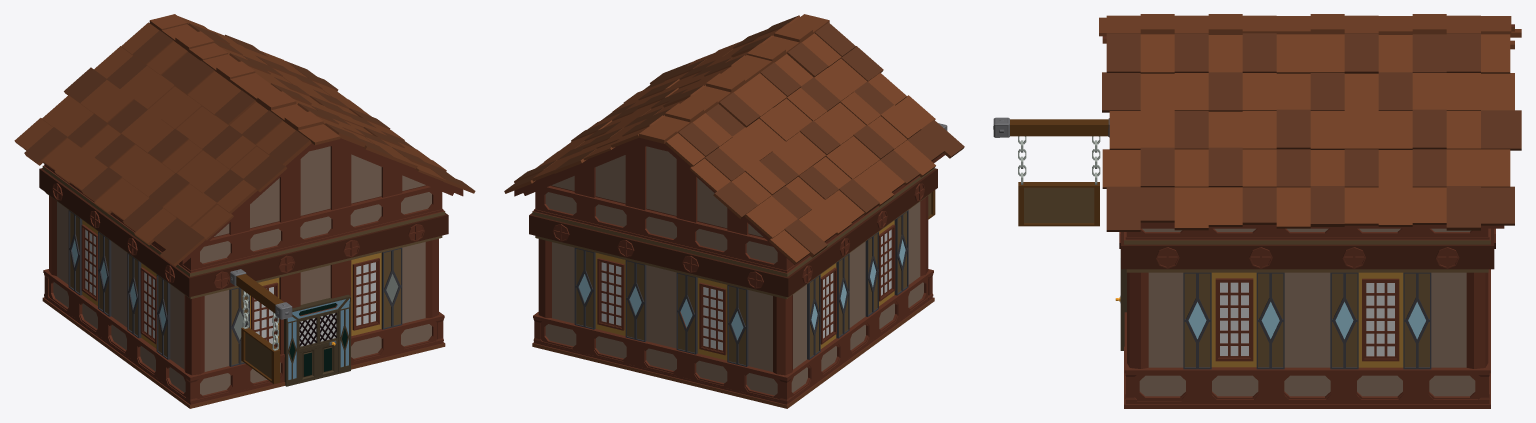
The model's file is SM_Hous_24_B.gltf.
3 renders of one model, left to right at view 1: azimuth 30°, elevation 25°; view 2: azimuth 150°, elevation 25°; view 3: azimuth 270°, elevation 25°, orthographic. The views are drawn at different scales.
Visible parts, largest first — view 1: SM_Hous_24_B; view 2: SM_Hous_24_B; view 3: SM_Hous_24_B.
Part boxes in pixels (box(x1,y1,x2,y2)): SM_Hous_24_B: box(14, 14, 475, 408); SM_Hous_24_B: box(504, 14, 964, 408); SM_Hous_24_B: box(993, 14, 1521, 408).
Bounding box in the file's own units: 10 × 7.88 × 12.18.
